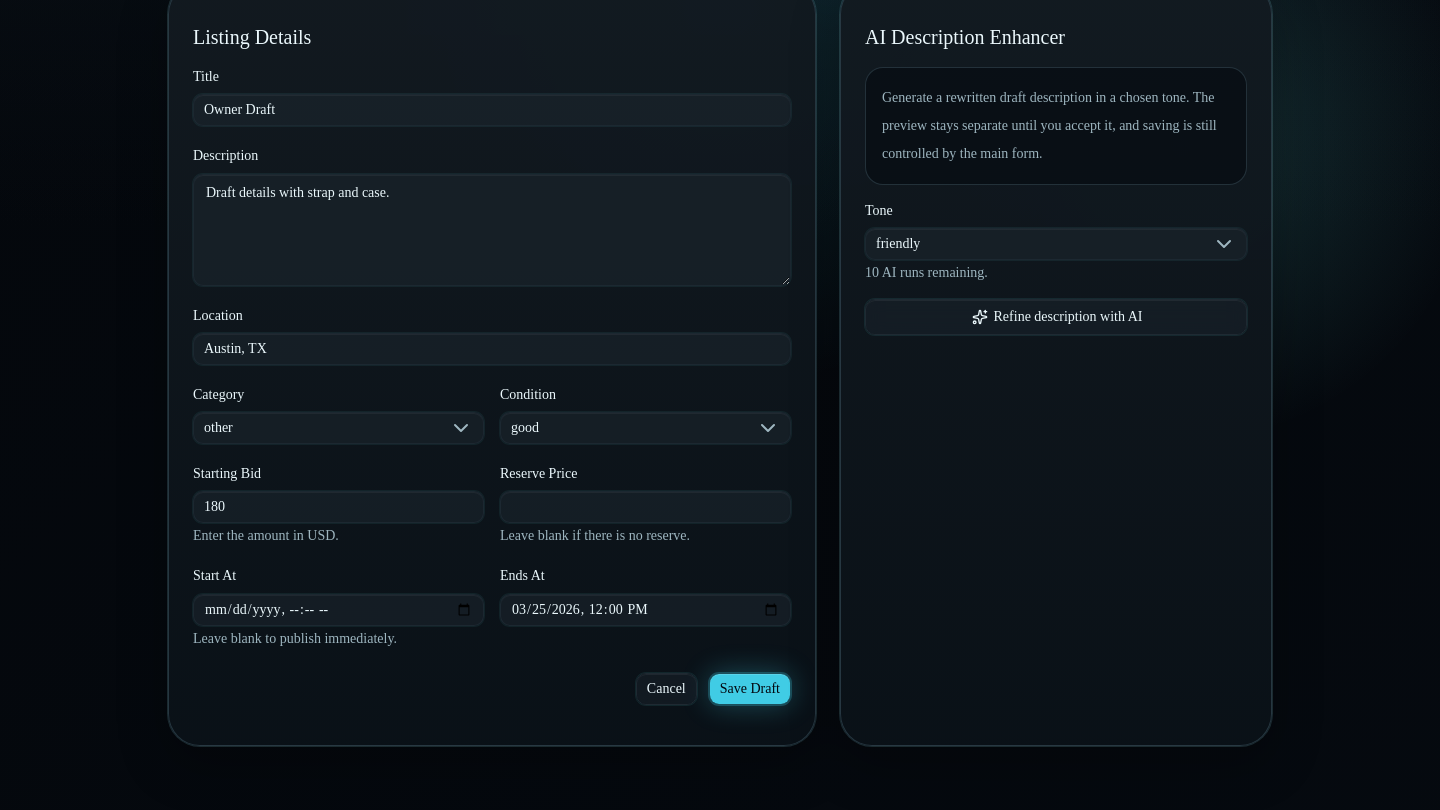
Scenario: DraftListingEditor › shows action errors when the save fails
The image size is (1440, 810).
(page scrolled)
Click the button "Save Draft" at (750, 688), box [709,672,791,704]
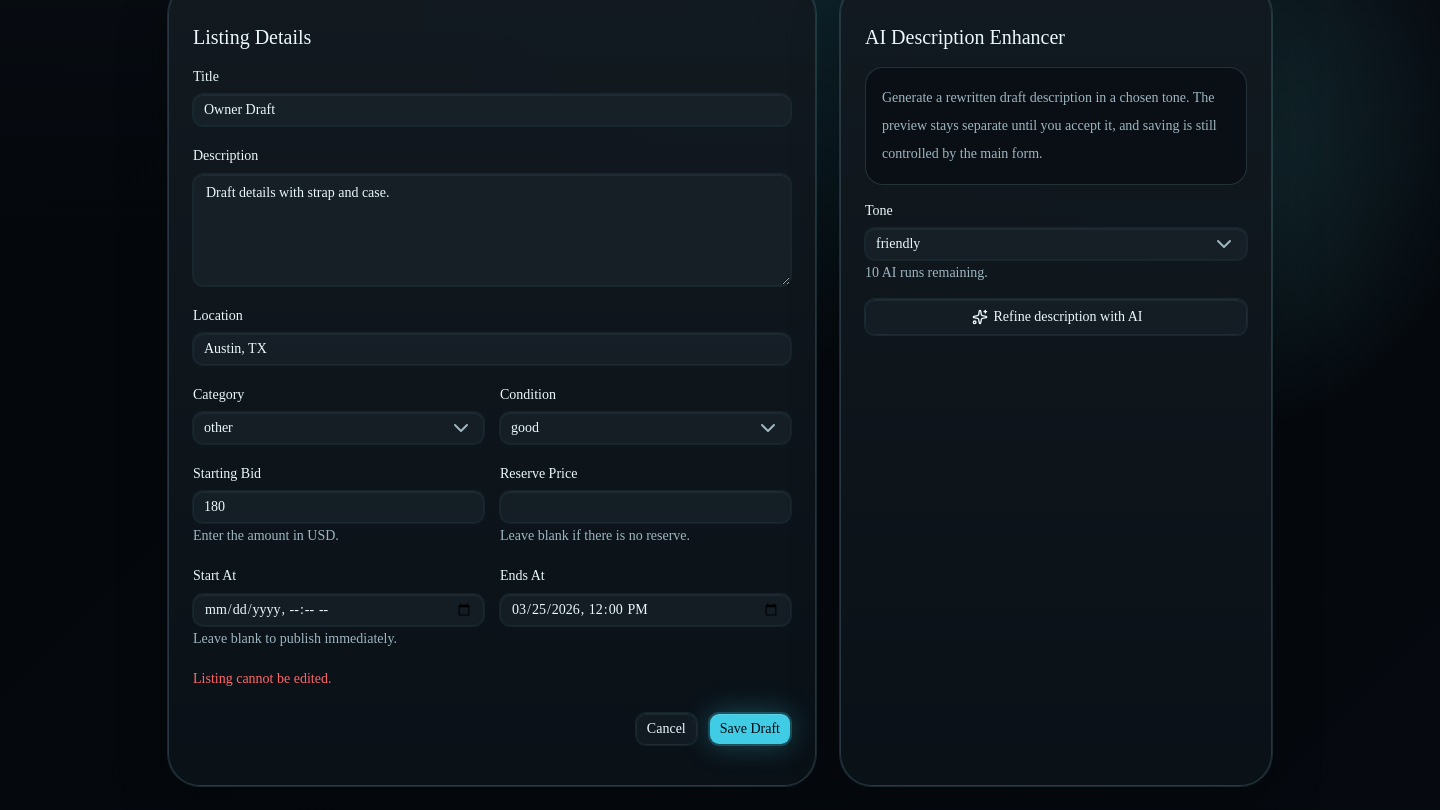
Expected: the text "Listing cannot be edited." is shown, [193,670,331,686]
